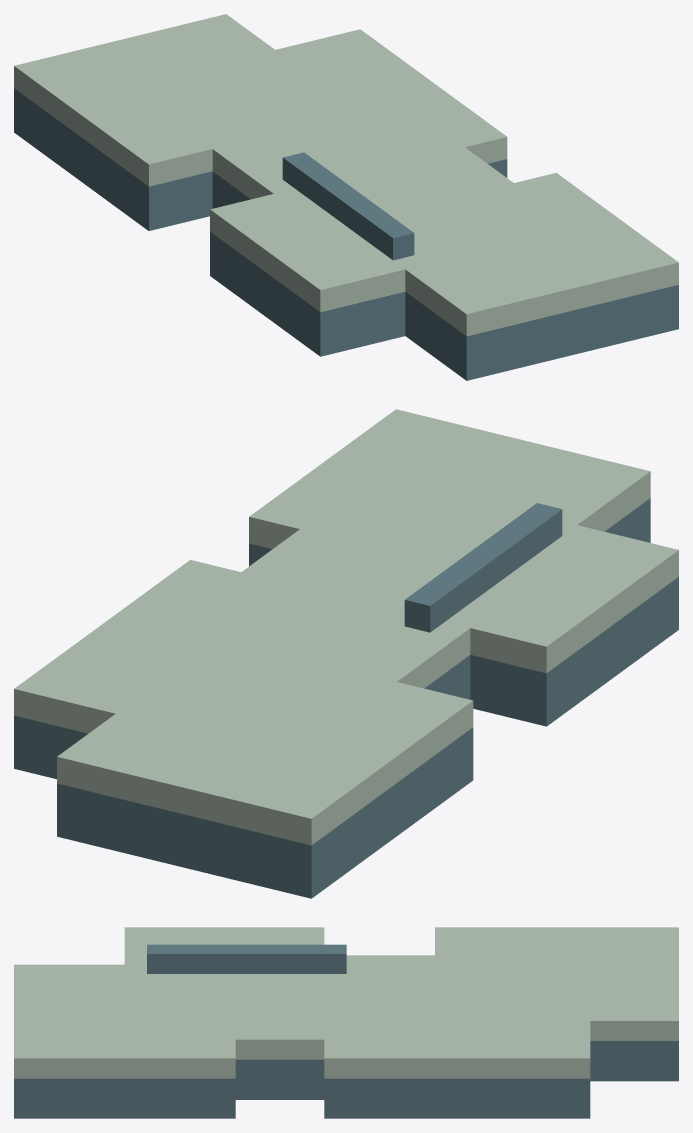
File: voxel_32_20030.glb
3 views of the same model, one above another, from view 1: azimuth 30°, elevation 25°; view 2: azimuth 150°, elevation 25°; view 3: azimuth 270°, elevation 25° (orthographic). The views are drawn at different scales.
Visible parts, largest first — view 1: prop_20030; view 2: prop_20030; view 3: prop_20030.
Boxes of the visible parts, x1,y1,x2,y2 form: prop_20030: (14, 14, 678, 380); prop_20030: (14, 409, 678, 898); prop_20030: (14, 927, 678, 1118).
Size of the model in its own units: 0.3631 by 0.1037 by 0.7781.
